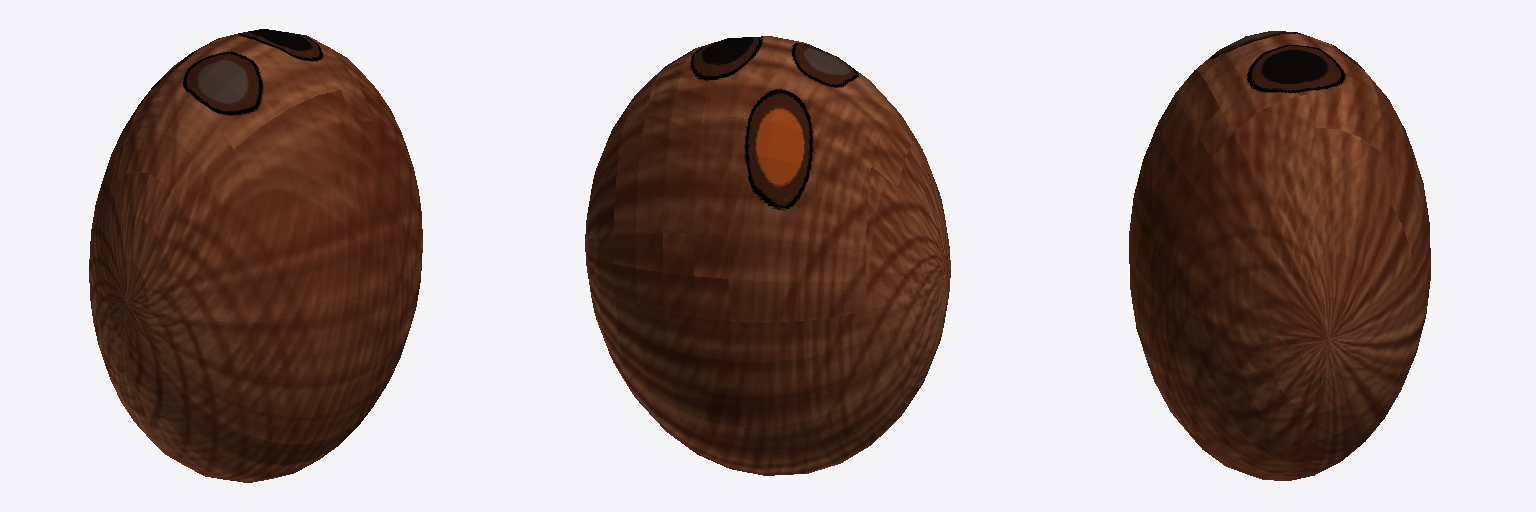
3 renders of one model, left to right at view 1: azimuth 30°, elevation 25°; view 2: azimuth 150°, elevation 25°; view 3: azimuth 270°, elevation 25°, orthographic.
Visible parts, largest first — view 1: Esfera.001; view 2: Esfera.001; view 3: Esfera.001.
Boxes of the visible parts, <box> form: Esfera.001: <box>89,29,422,482</box>; Esfera.001: <box>585,36,950,475</box>; Esfera.001: <box>1129,31,1430,480</box>.
Size of the model in its own units: 0.353 by 0.4548 by 0.292.
1 materials, 1 textured.